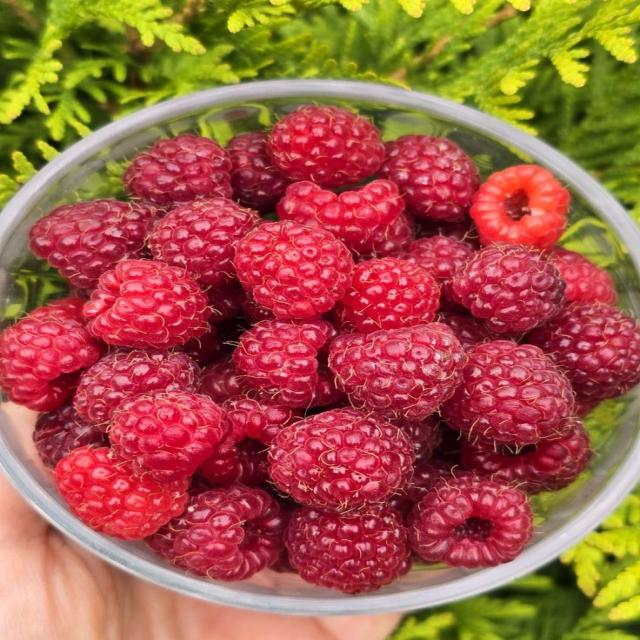raspberry: (269, 409, 413, 510), (441, 341, 574, 445), (147, 484, 286, 581), (329, 323, 466, 421), (54, 447, 187, 540), (408, 474, 533, 568), (234, 221, 353, 319), (30, 199, 158, 288), (84, 260, 211, 348), (287, 507, 411, 593), (528, 303, 639, 399), (109, 391, 226, 481), (453, 243, 565, 334), (149, 198, 259, 287), (74, 350, 199, 428), (0, 317, 103, 411), (267, 106, 385, 187), (462, 420, 591, 493), (277, 180, 404, 251), (234, 320, 334, 407), (380, 136, 479, 221), (470, 165, 570, 248), (124, 134, 232, 206), (336, 258, 439, 333), (227, 132, 289, 212), (34, 404, 108, 468), (403, 235, 473, 298), (550, 247, 617, 304), (222, 397, 301, 444), (389, 458, 454, 514), (199, 438, 269, 486), (354, 213, 414, 262), (390, 415, 440, 462), (439, 312, 497, 349), (175, 323, 225, 365), (416, 217, 479, 250), (199, 361, 248, 403), (199, 438, 240, 485), (307, 363, 345, 409), (206, 282, 246, 325), (236, 438, 269, 486), (29, 297, 86, 323), (434, 423, 463, 468), (241, 293, 274, 324), (576, 398, 601, 418)
